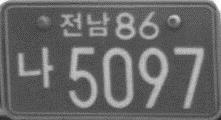0: (102, 46, 135, 111)
5: (67, 45, 100, 110)
6: (139, 10, 158, 40)
7: (172, 45, 205, 110)
8: (114, 10, 136, 40)
9: (136, 46, 169, 109)
나: (15, 46, 54, 90)
전남_O: (60, 12, 110, 38)
